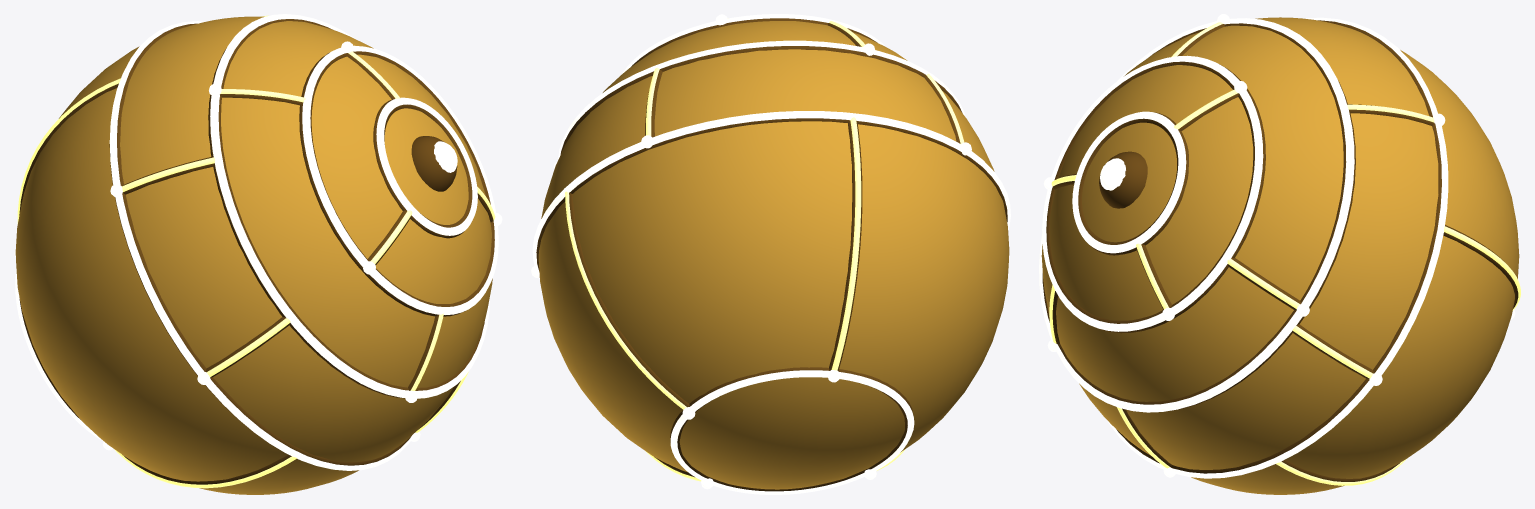
File: apple_of_eden.glb
3 renders of one model, left to right at view 1: azimuth 30°, elevation 25°; view 2: azimuth 150°, elevation 25°; view 3: azimuth 270°, elevation 25°, orthographic.
Parts seen in each view (by area): view 1: apple_of_eden; view 2: apple_of_eden; view 3: apple_of_eden.
Part boxes in pixels (<box>): apple_of_eden: <box>14,14,502,494</box>; apple_of_eden: <box>531,14,1010,494</box>; apple_of_eden: <box>1039,14,1520,494</box>.
Size of the model in its own units: 0.9999 by 1 by 0.9987.
